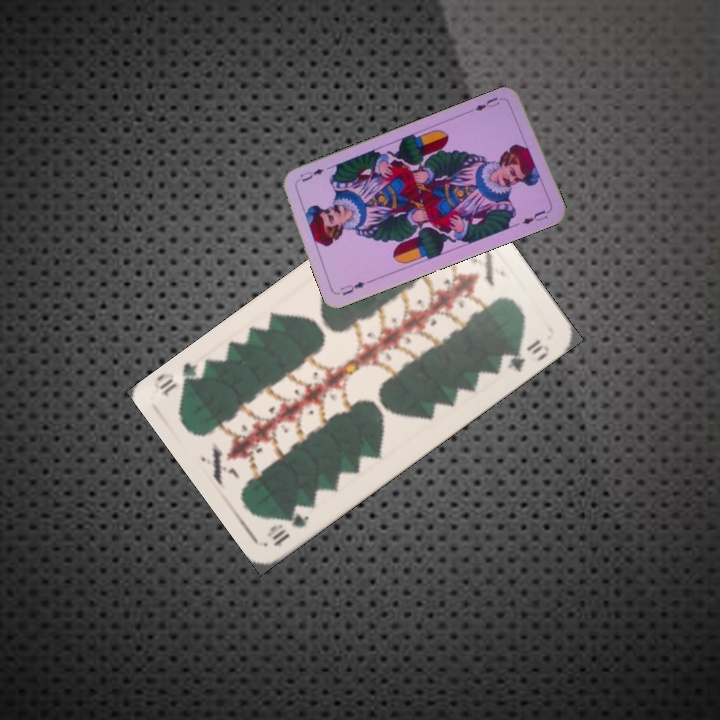EU: (471, 93, 507, 114), (336, 277, 367, 298)
G10: (262, 506, 312, 549)
